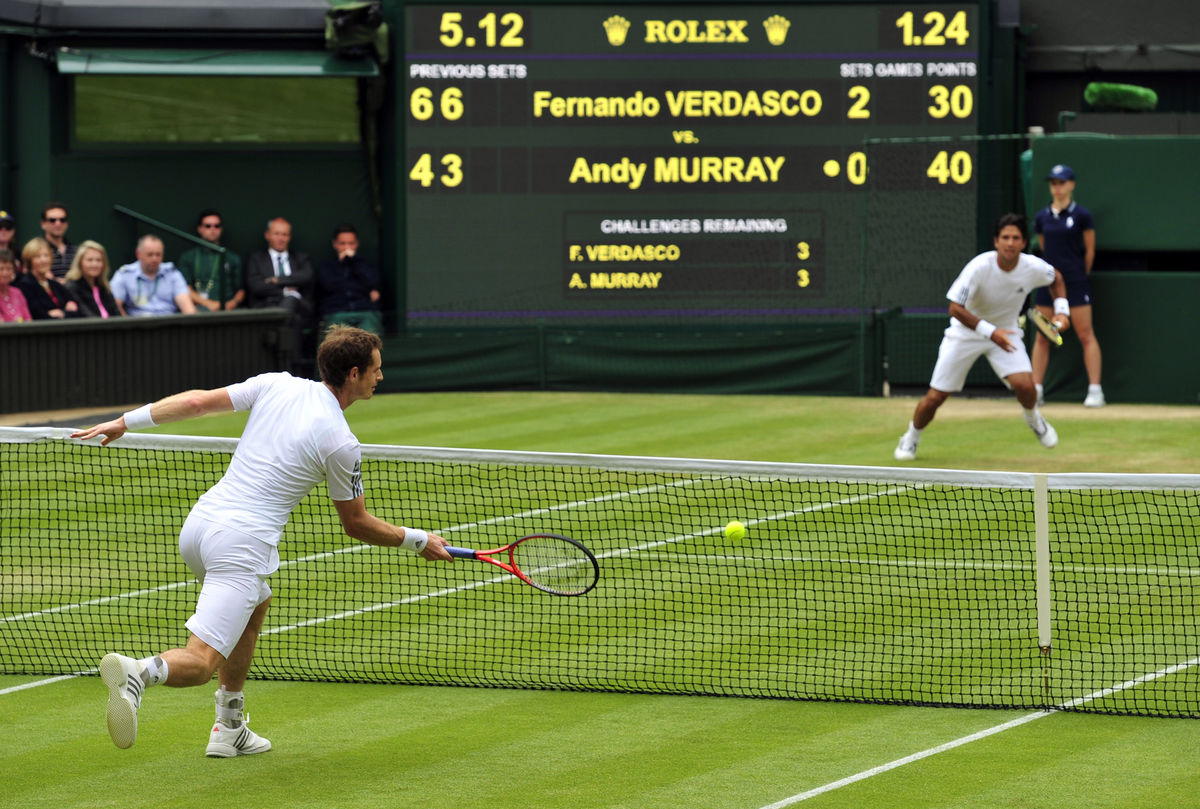tennis ball: (715, 520, 754, 545)
tennis player: (61, 320, 458, 767), (885, 214, 1075, 465)
